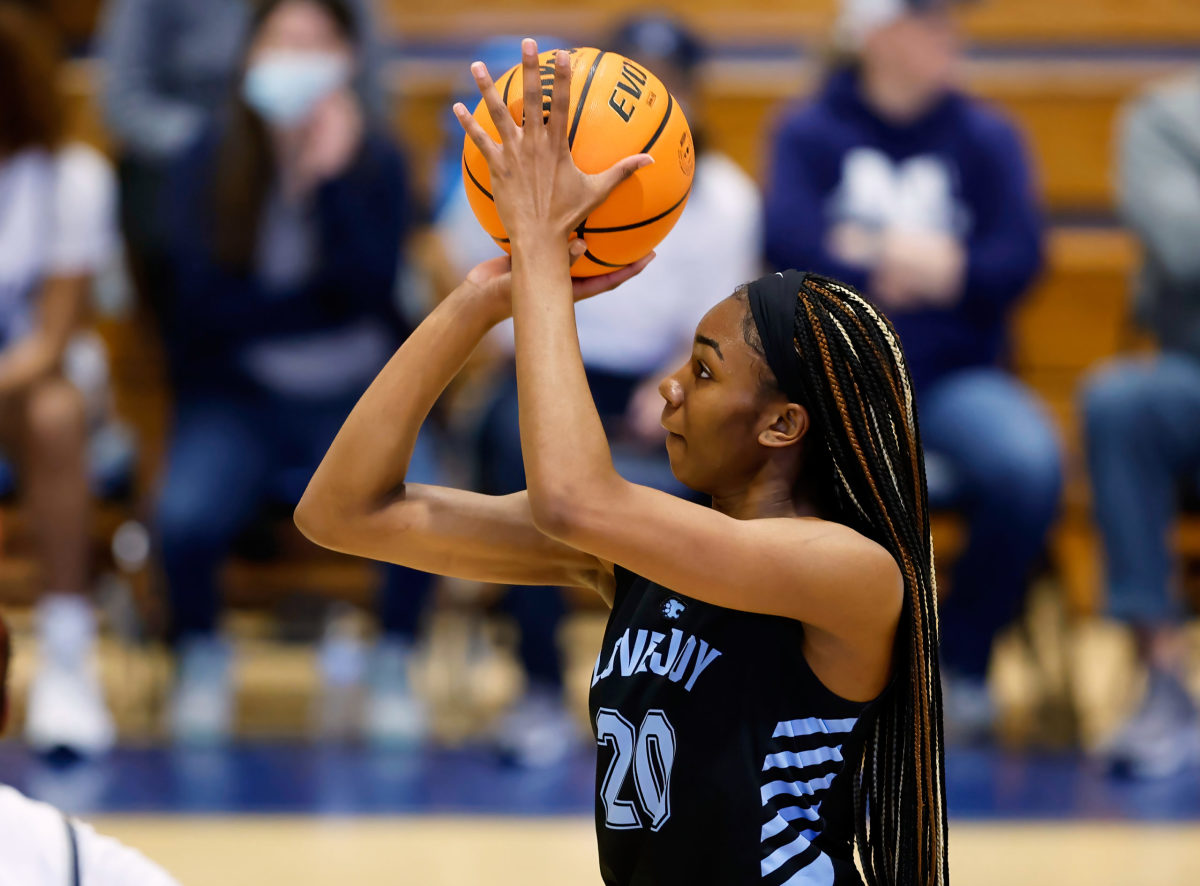b_ball: (444, 40, 699, 270)
face: (653, 299, 916, 504)
player: (283, 145, 975, 886)
